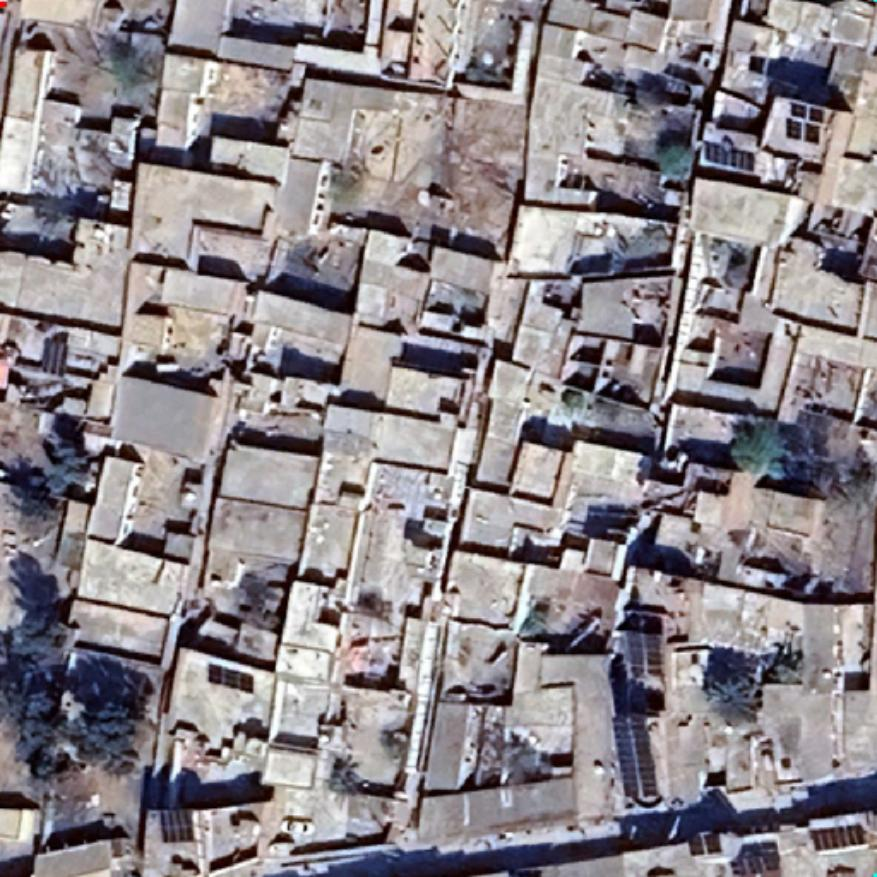Solarpanel: (609, 708, 663, 804), (804, 817, 874, 857), (620, 625, 668, 681), (698, 136, 760, 176), (782, 95, 830, 146), (203, 660, 259, 698), (154, 805, 200, 847), (724, 843, 779, 875), (685, 826, 727, 860)
